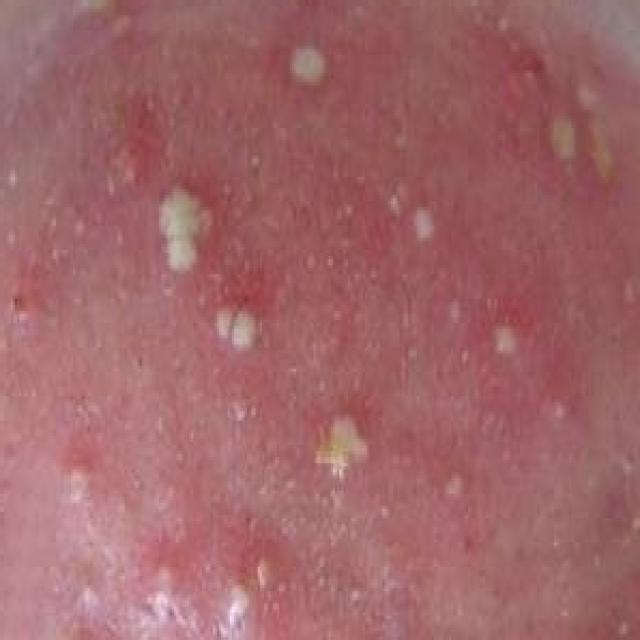pustule: (256, 24, 551, 400), (133, 160, 389, 518)
